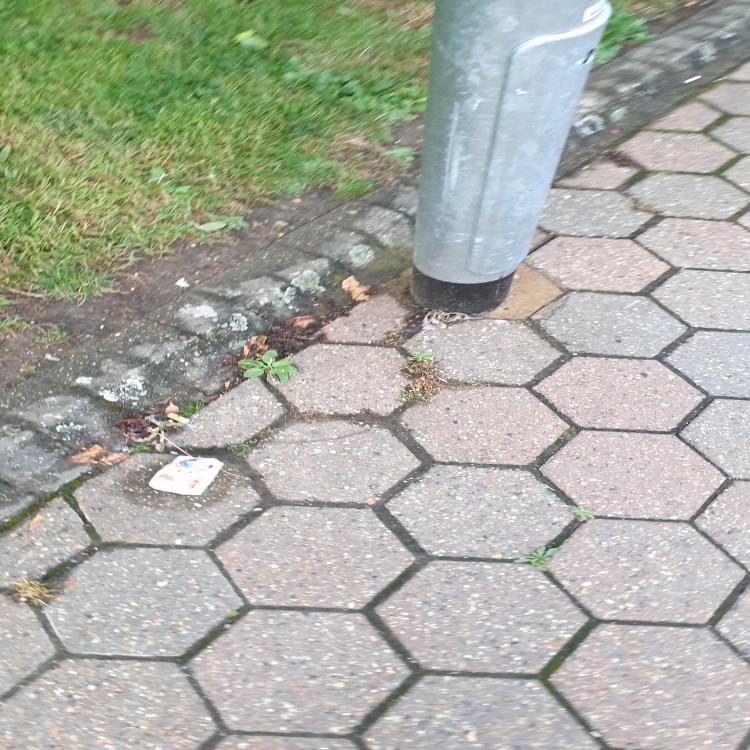Cigarette: (168, 412, 190, 424)
Unlabeled litter: (148, 456, 224, 495)
